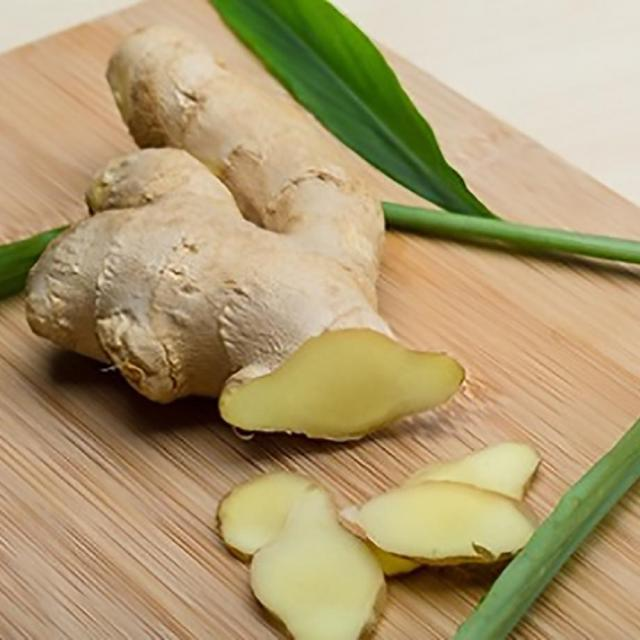ginger: (25, 41, 374, 438)
